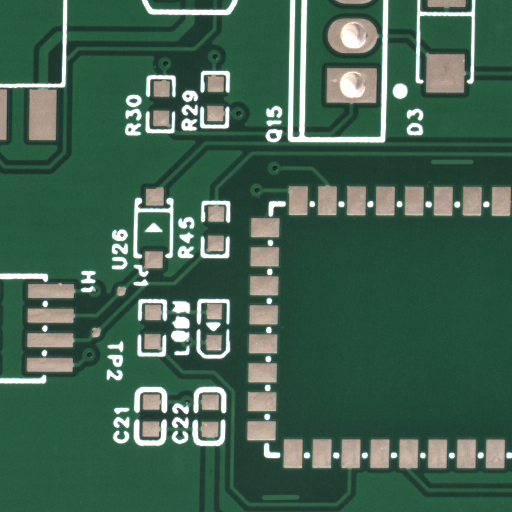Spurious_copper: (281, 496, 321, 505), (452, 162, 496, 170)
